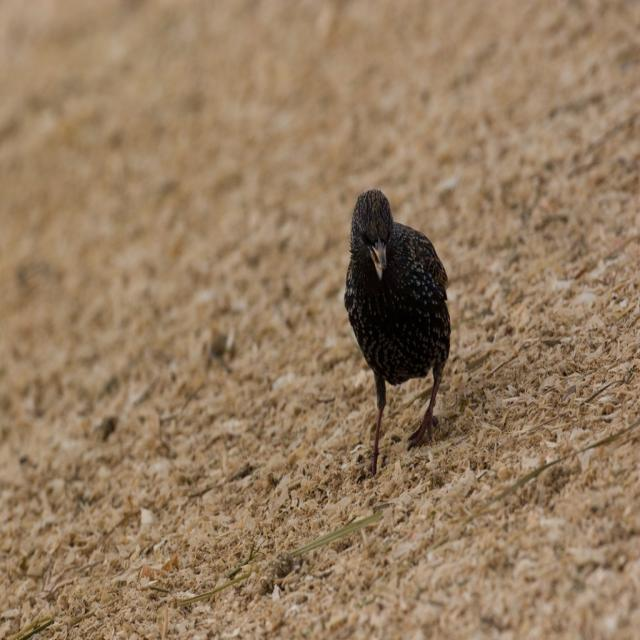bird: (341, 191, 452, 469)
